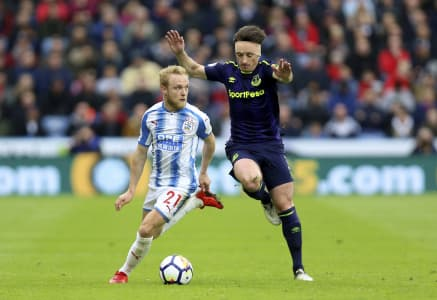soccer player: (163, 25, 312, 282), (110, 63, 225, 284)
soccerball: (159, 254, 194, 286)
